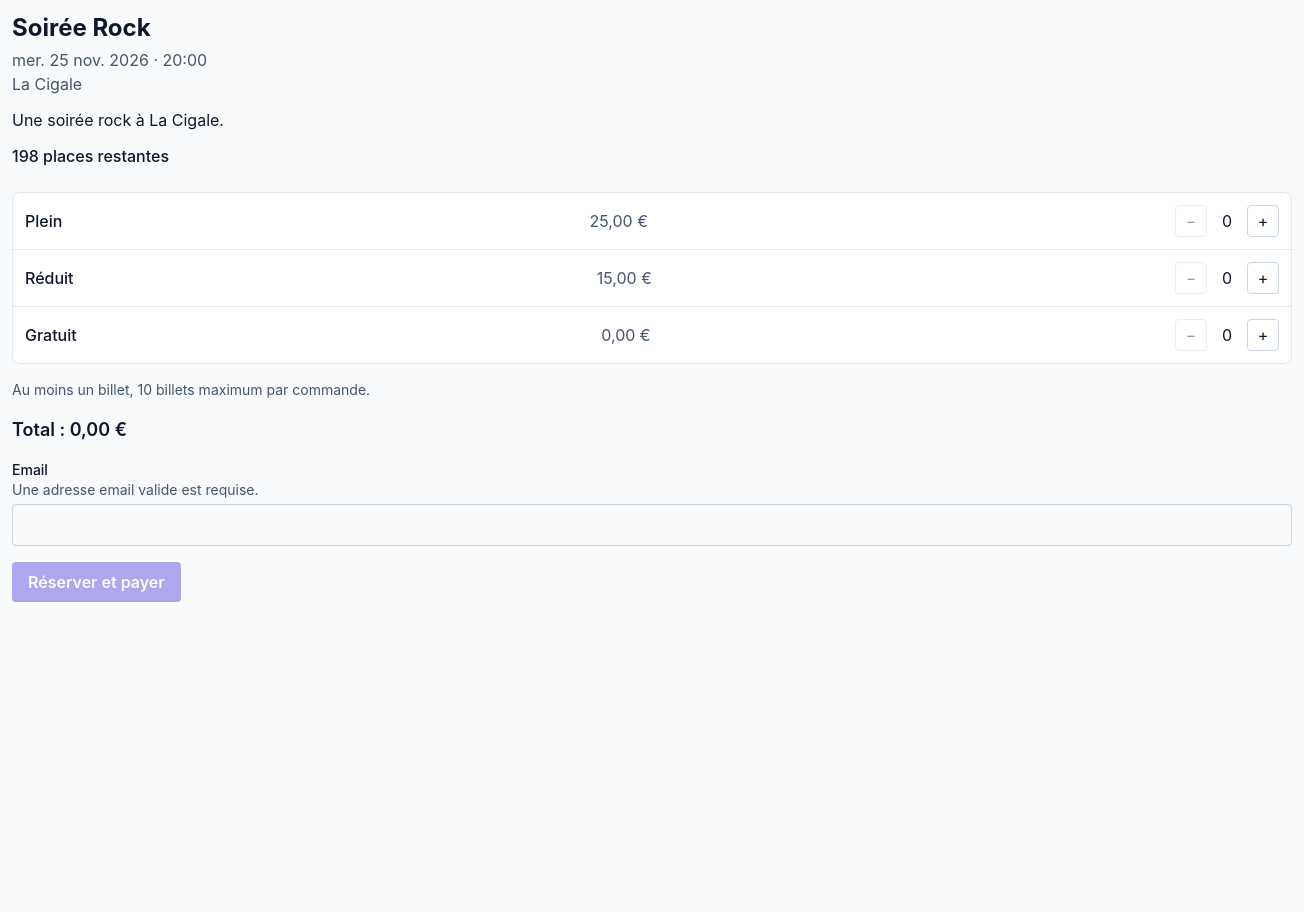
EventPage › shows sold_out at the top of the form and reloads the remaining seats
This screenshot has width=1304, height=912.
Expected: the text "198 places restantes" is shown, left=12, top=146, right=169, bottom=166
Click the button named "Ajouter un billet Plein".
click(1263, 221)  # box left=1247, top=205, right=1279, bottom=237
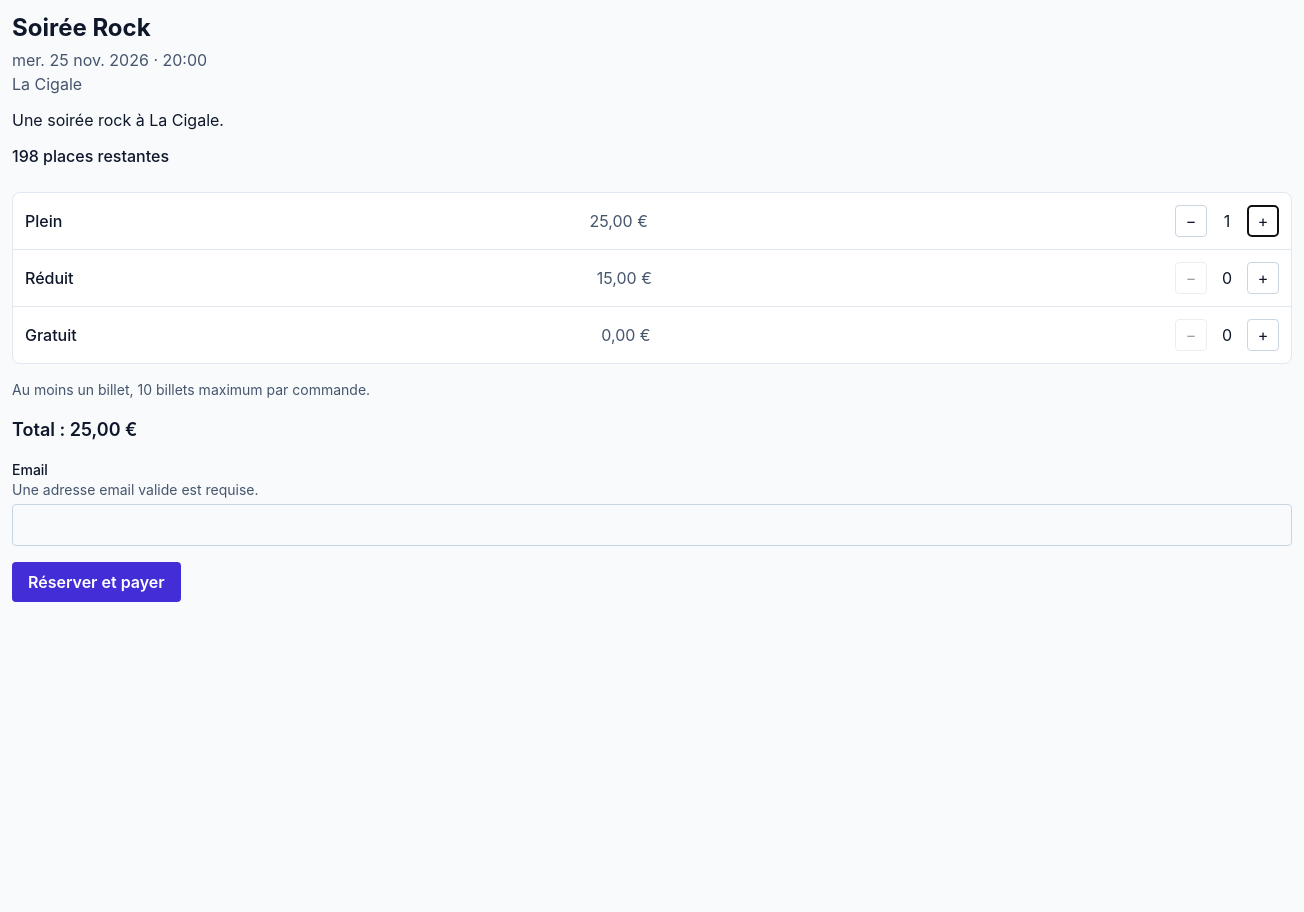
Click the button named "Ajouter un billet Plein".
click(1263, 221)  # box left=1247, top=205, right=1279, bottom=237
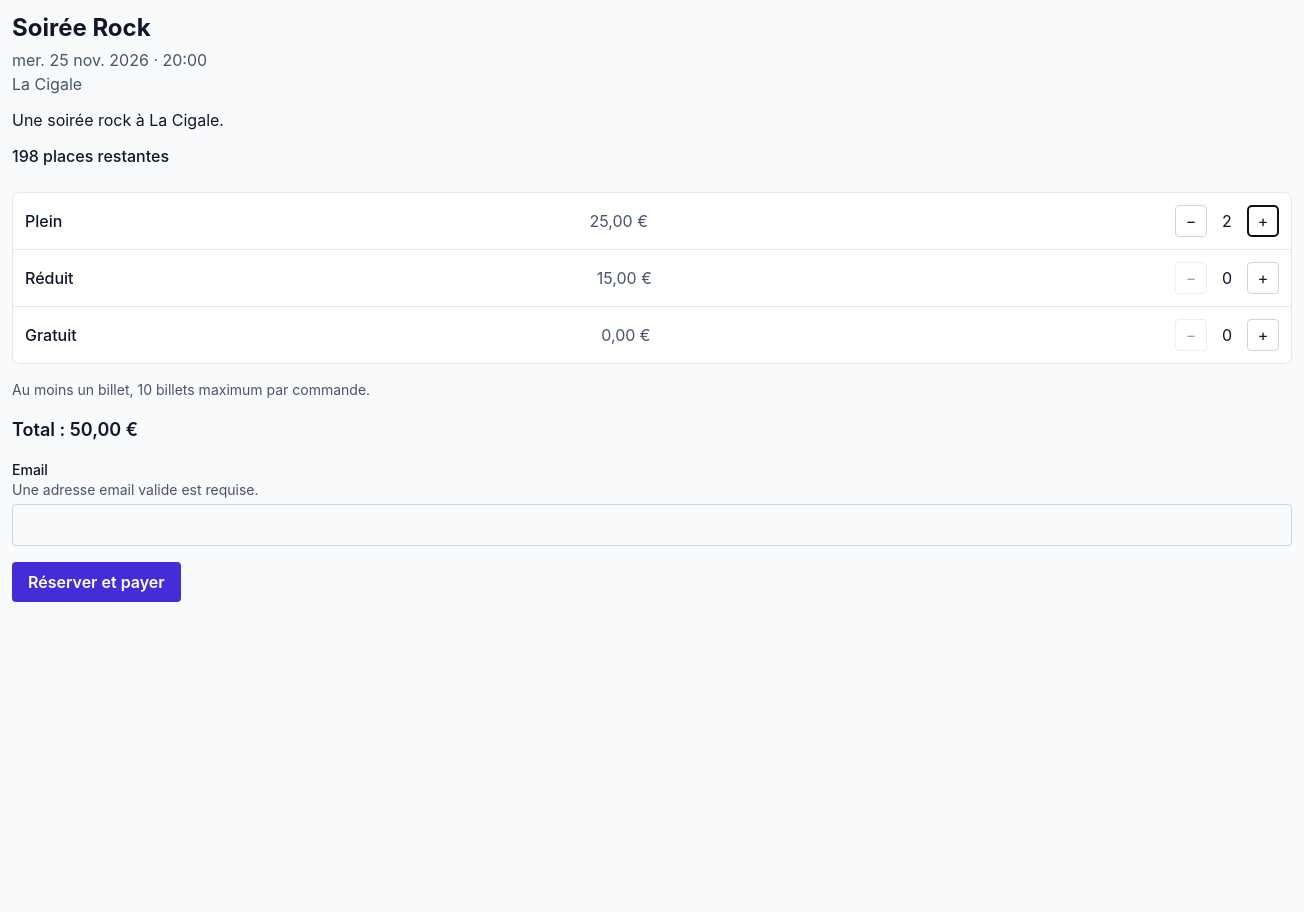
Click the button named "Ajouter un billet Plein".
click(1263, 221)  # box left=1247, top=205, right=1279, bottom=237
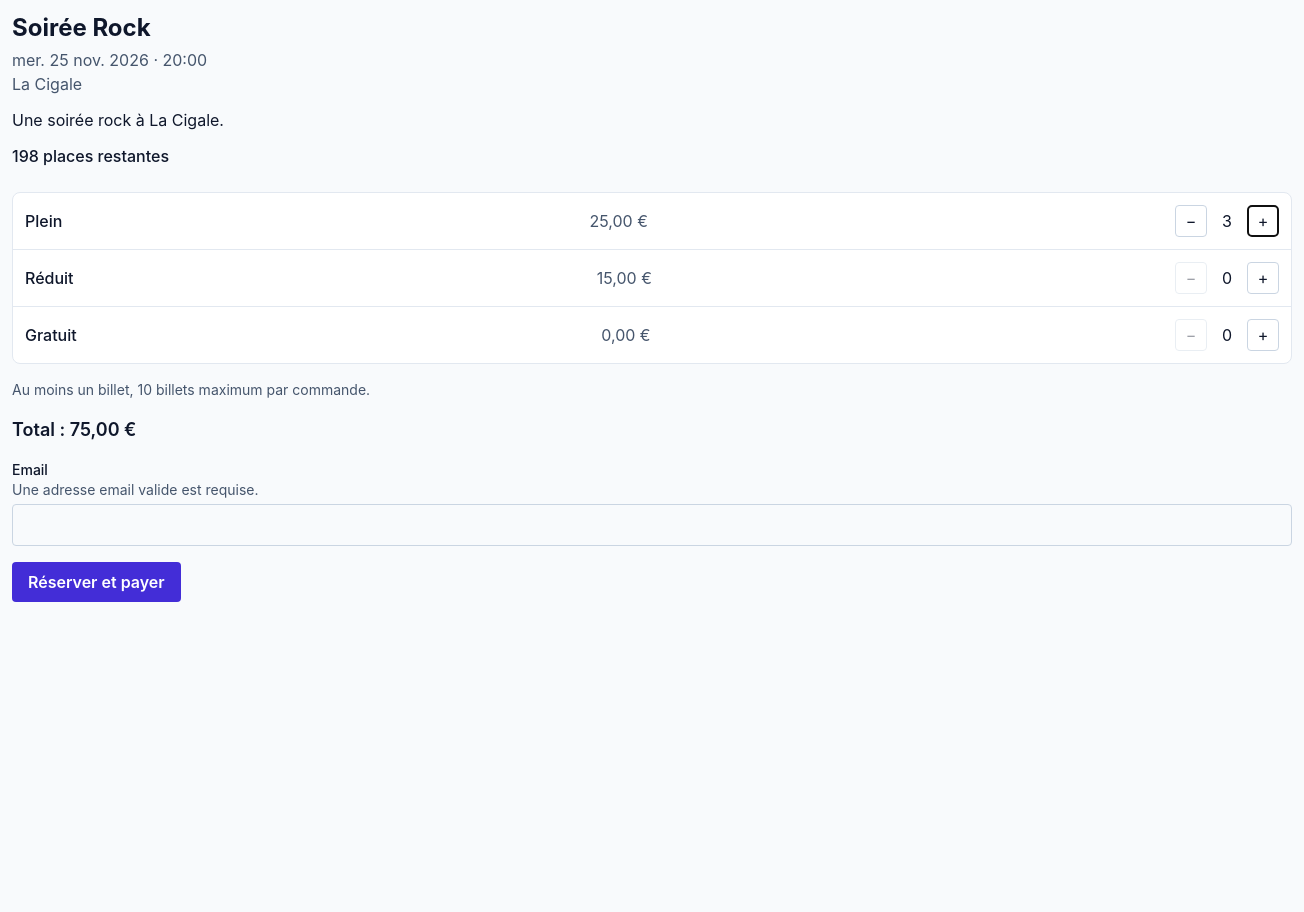
Click the button named "Ajouter un billet Plein".
click(1263, 221)  # box left=1247, top=205, right=1279, bottom=237
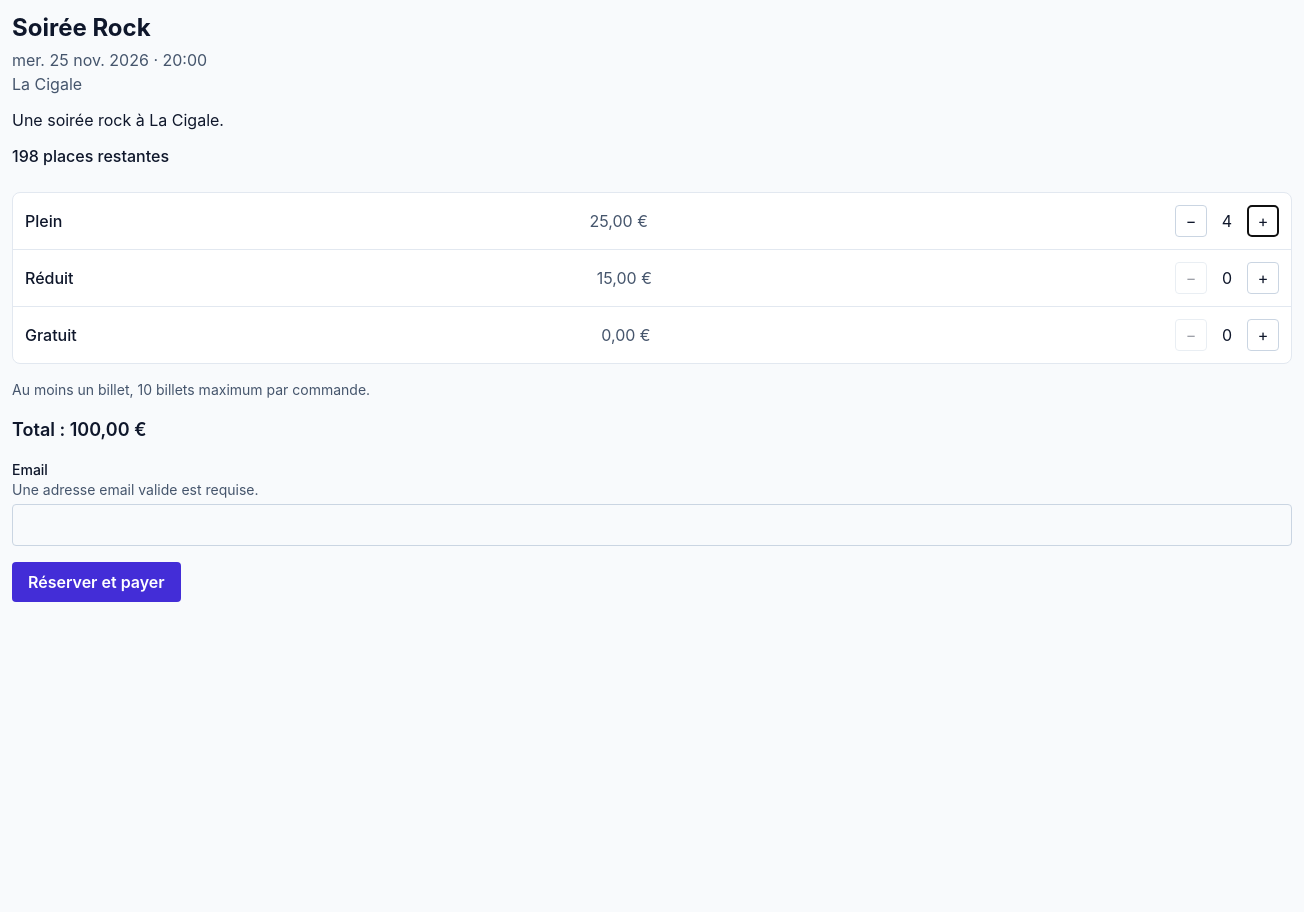
Click the button named "Ajouter un billet Plein".
click(1263, 221)  # box left=1247, top=205, right=1279, bottom=237
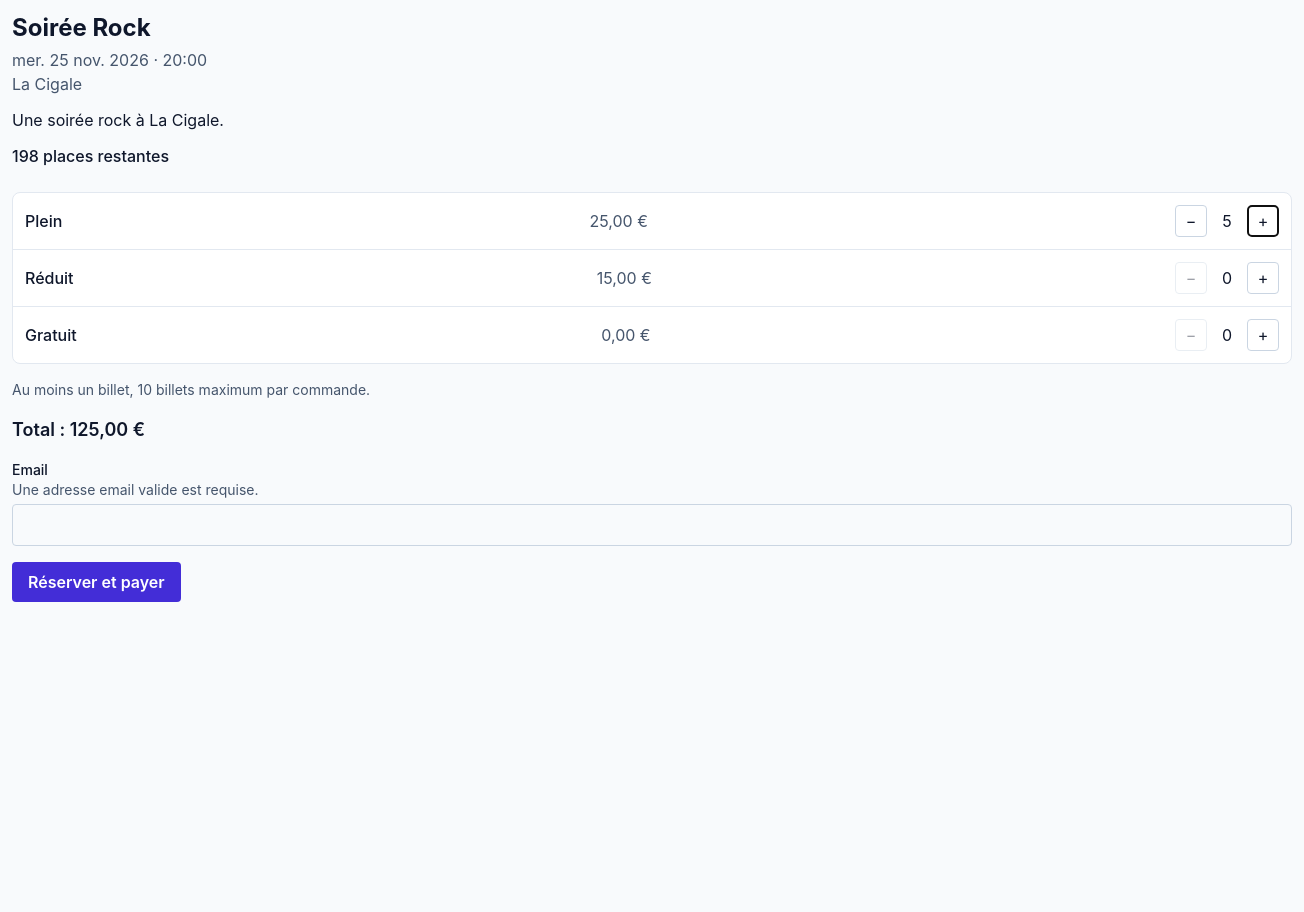
Type "buyer@example.com" into the field labelled "Email".
click(652, 525); type("buyer@example.com")  # box left=12, top=504, right=1292, bottom=546
Click the button "Réserver et payer".
click(96, 582)  # box left=12, top=562, right=181, bottom=602
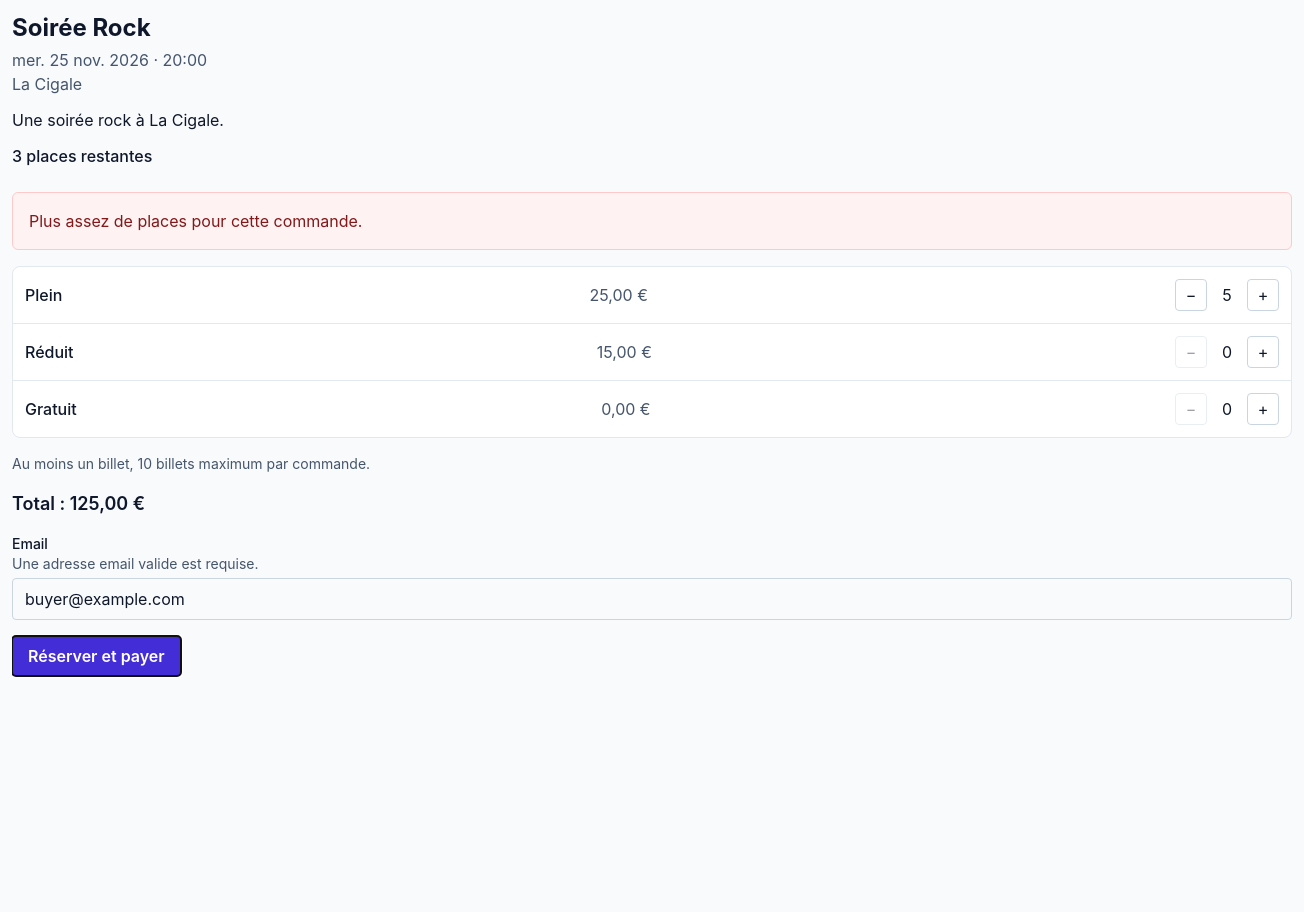
Result: the message reads "Plus assez de places pour cette commande." at left=29, top=211, right=362, bottom=231
Result: the text "3 places restantes" is shown at left=12, top=146, right=152, bottom=166
